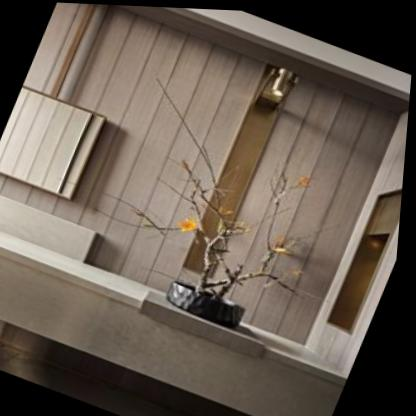Wall Panel: (0, 0, 411, 350)
